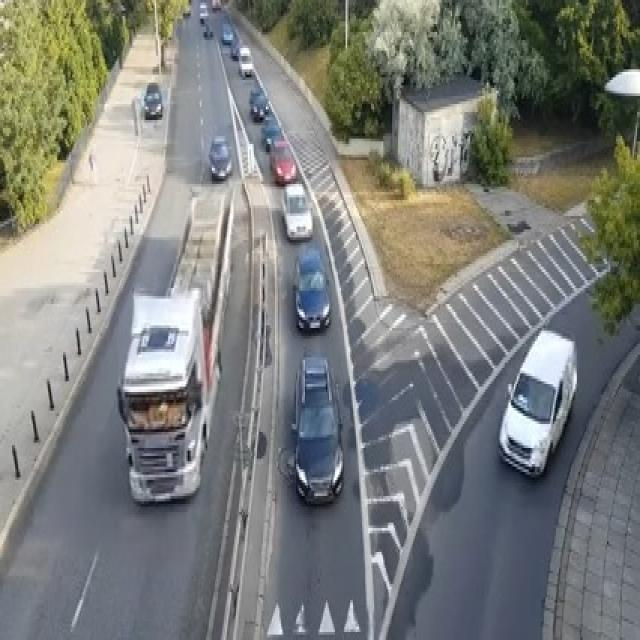car: (497, 328, 577, 477), (288, 355, 344, 504), (292, 248, 331, 331), (280, 181, 312, 240), (269, 136, 297, 184), (208, 133, 232, 179), (248, 85, 269, 120), (143, 80, 162, 117), (260, 118, 281, 150), (238, 46, 252, 78), (221, 18, 233, 42), (230, 37, 242, 59), (198, 0, 207, 21), (203, 22, 213, 38), (182, 0, 191, 16), (210, 0, 221, 11)
